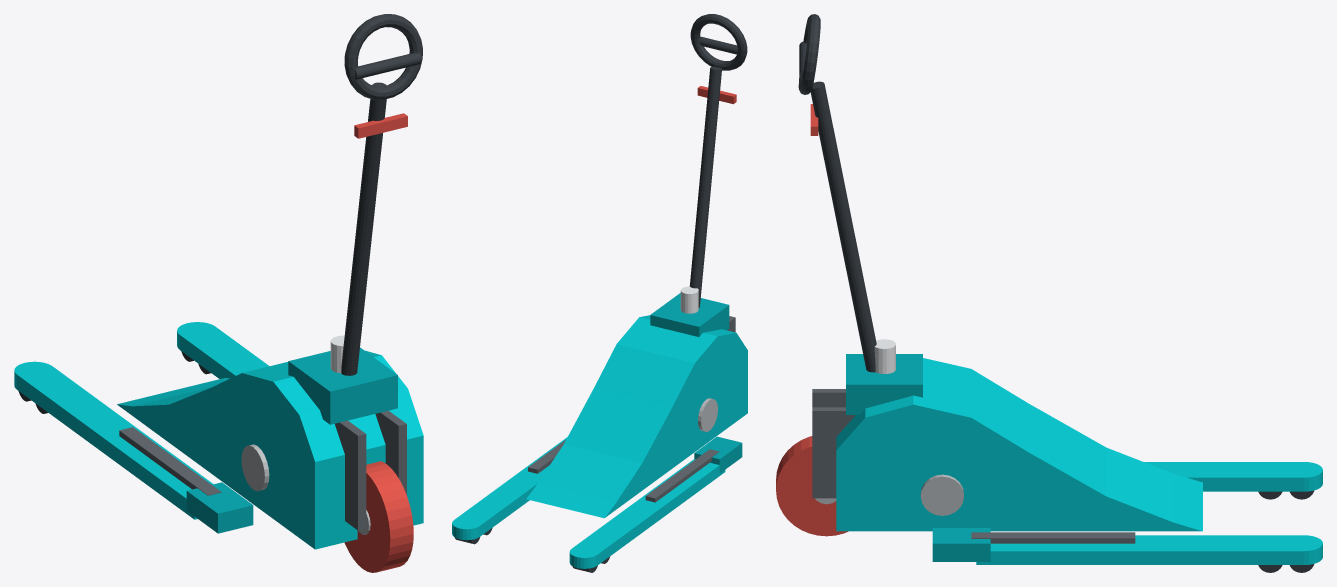
File: pallet_jack_parts.glb
The picture shows the model from 3 angles, left to right: view 1: azimuth 30°, elevation 25°; view 2: azimuth 150°, elevation 25°; view 3: azimuth 270°, elevation 25°; orthographic projection. The views are drawn at different scales.
Visible parts, largest first — view 1: Body_Hydraulic, Fork_Left, Steering_Wheel, Handle_Column, Handle_Grip, Fork_Right; view 2: Body_Hydraulic, Fork_Left, Fork_Right, Handle_Column, Handle_Grip, Pump_Piston; view 3: Body_Hydraulic, Fork_Right, Steering_Wheel, Handle_Column, Fork_Left, Handle_Grip, Pump_Piston.
Part boxes in pixels (x1=…): Body_Hydraulic: x1=117, y1=347, x2=423, y2=549; Fork_Left: x1=14, y1=361, x2=253, y2=533; Steering_Wheel: x1=335, y1=410, x2=413, y2=572; Handle_Column: x1=341, y1=82, x2=407, y2=375; Handle_Grip: x1=344, y1=14, x2=422, y2=99; Fork_Right: x1=177, y1=322, x2=269, y2=378; Body_Hydraulic: x1=526, y1=293, x2=747, y2=518; Fork_Left: x1=569, y1=436, x2=742, y2=568; Fork_Right: x1=452, y1=437, x2=567, y2=540; Handle_Column: x1=689, y1=66, x2=736, y2=307; Handle_Grip: x1=690, y1=14, x2=747, y2=70; Pump_Piston: x1=680, y1=286, x2=698, y2=313; Body_Hydraulic: x1=836, y1=354, x2=1202, y2=531; Fork_Right: x1=932, y1=528, x2=1322, y2=564; Steering_Wheel: x1=776, y1=389, x2=855, y2=536; Handle_Column: x1=810, y1=81, x2=876, y2=372; Fork_Left: x1=1144, y1=462, x2=1322, y2=491; Handle_Grip: x1=798, y1=14, x2=820, y2=94; Pump_Piston: x1=874, y1=339, x2=895, y2=373.
Bounding box in the file's own units: 0.438 × 1.17 × 1.13.
